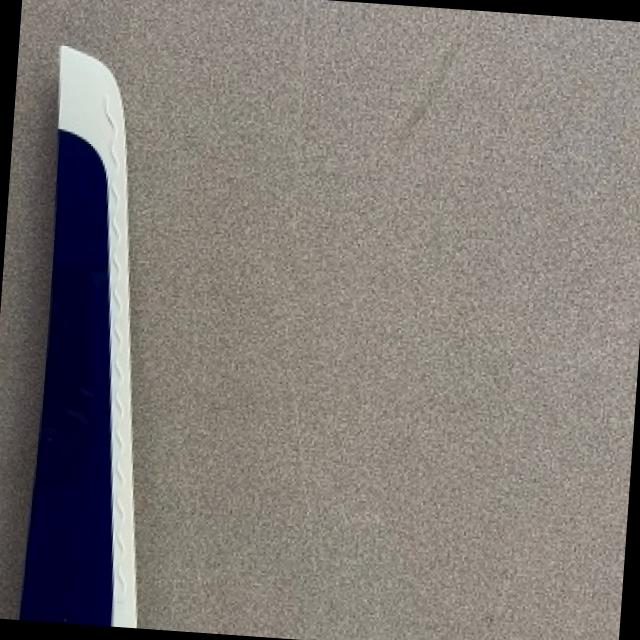healthy: (21, 45, 132, 625)
